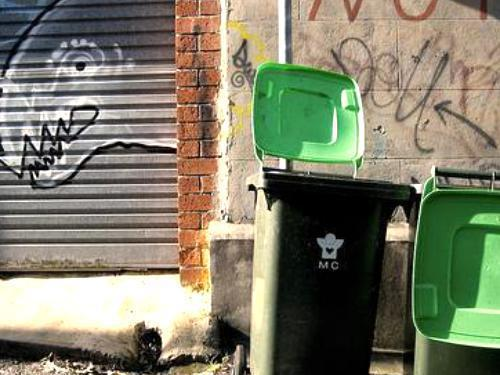Bote de Basura: (254, 70, 398, 375), (395, 159, 500, 375)
